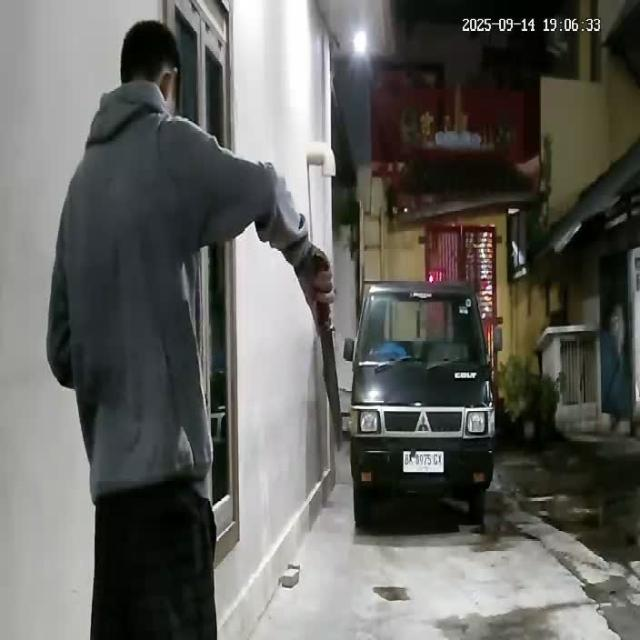senjata_tajam: (317, 307, 346, 453)
